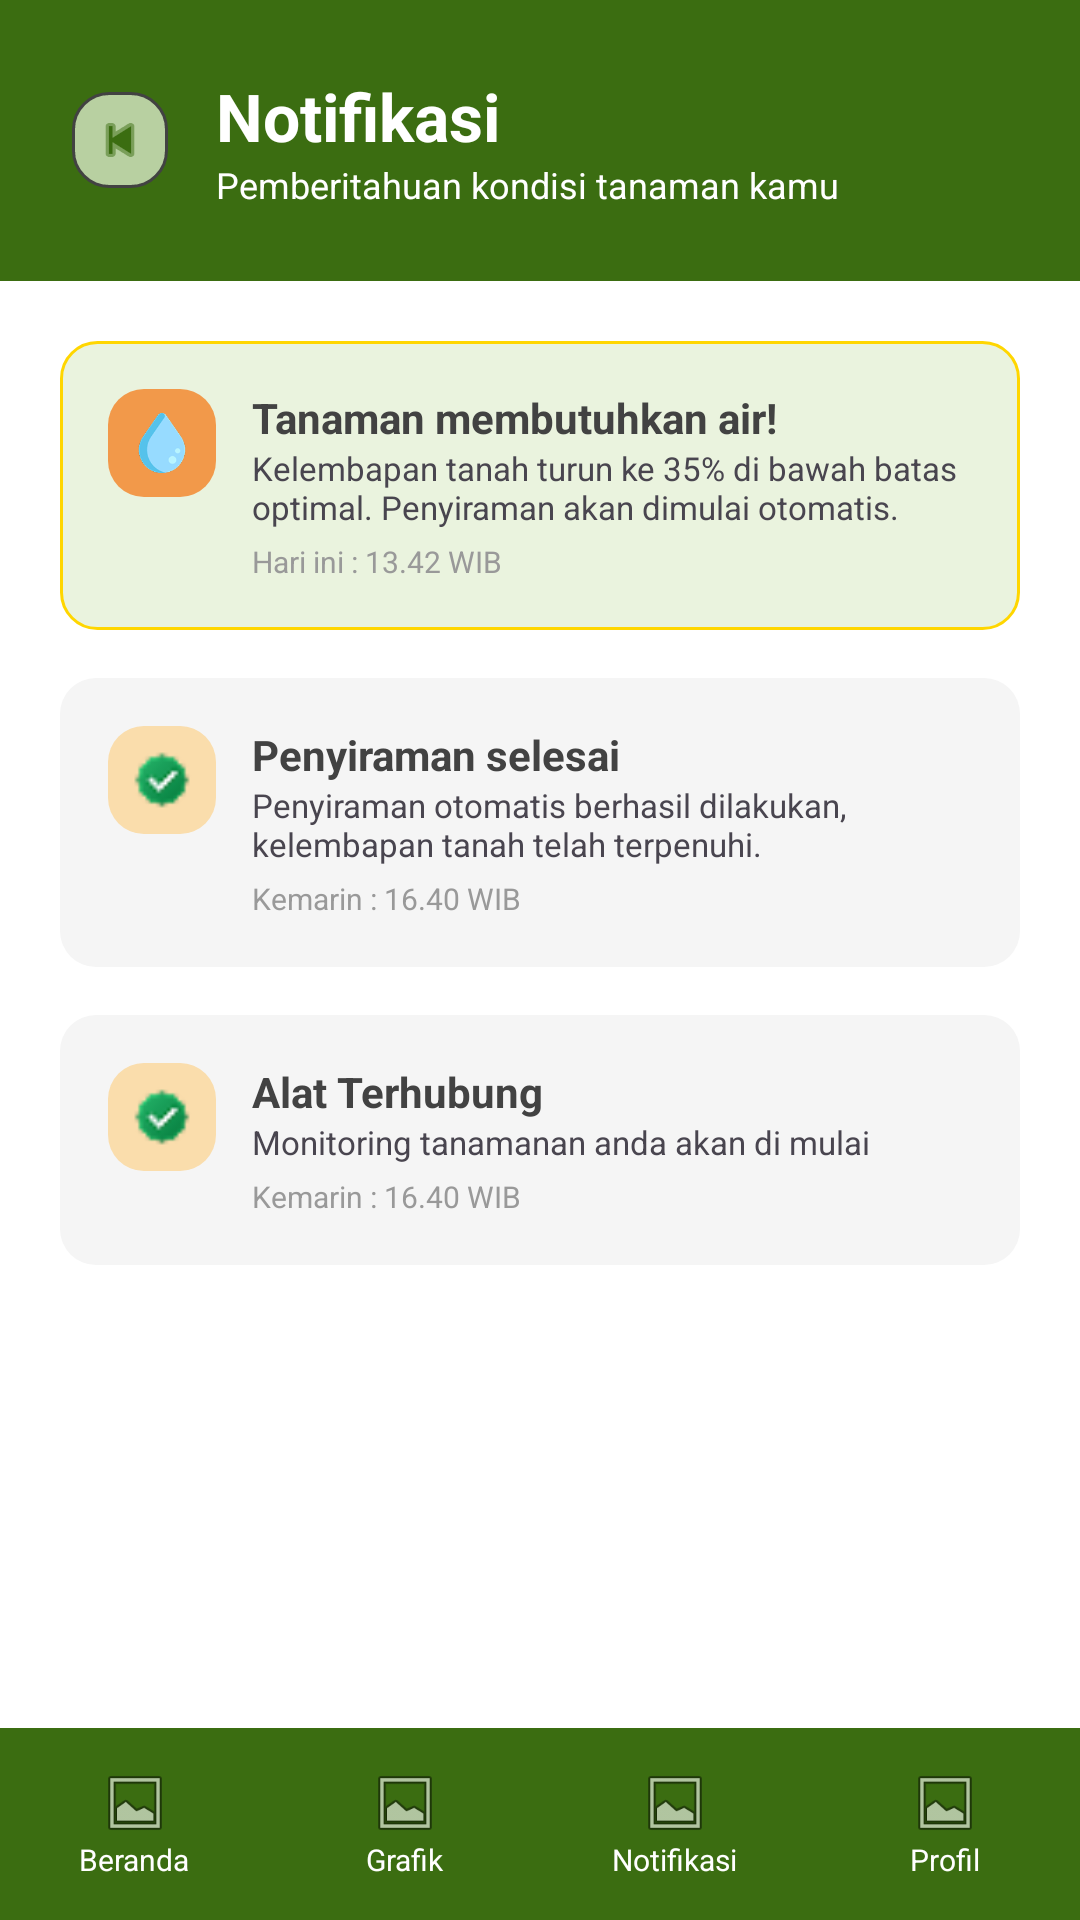

Icons on this 1080 × 1920 Android screen, each with its box as (x1, y1, x2, y2):
gallery: (108, 1776, 162, 1830), (378, 1776, 432, 1830), (648, 1776, 702, 1830), (918, 1776, 972, 1830)
previous: (72, 92, 168, 188)
verified: (108, 726, 216, 834), (108, 1063, 216, 1171)
